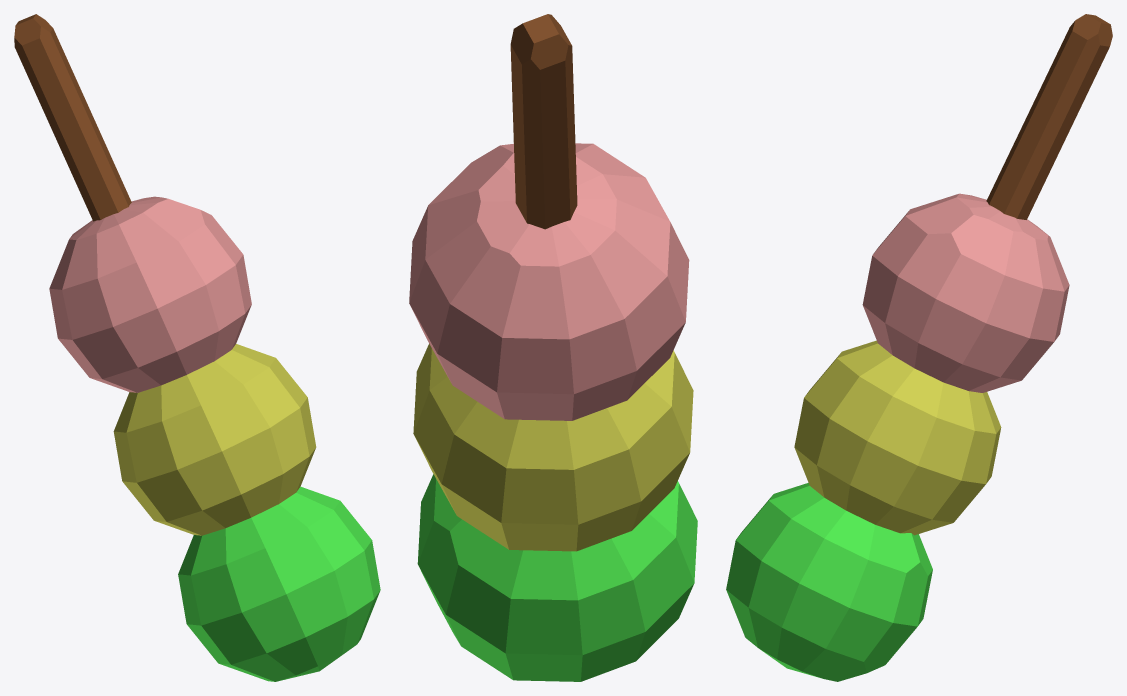
File: dangomap_dango.obj
The picture shows the model from 3 angles, left to right: view 1: azimuth 30°, elevation 25°; view 2: azimuth 150°, elevation 25°; view 3: azimuth 270°, elevation 25°; orthographic projection. The views are drawn at different scales.
Visible parts, largest first — view 1: bsp_model_0; view 2: bsp_model_0; view 3: bsp_model_0.
Part boxes in pixels (bbox=[...]): bsp_model_0: bbox=[14, 14, 380, 681]; bsp_model_0: bbox=[409, 14, 697, 681]; bsp_model_0: bbox=[726, 14, 1112, 681].
Bounding box in the file's own units: 2773 × 6595 × 3866.
